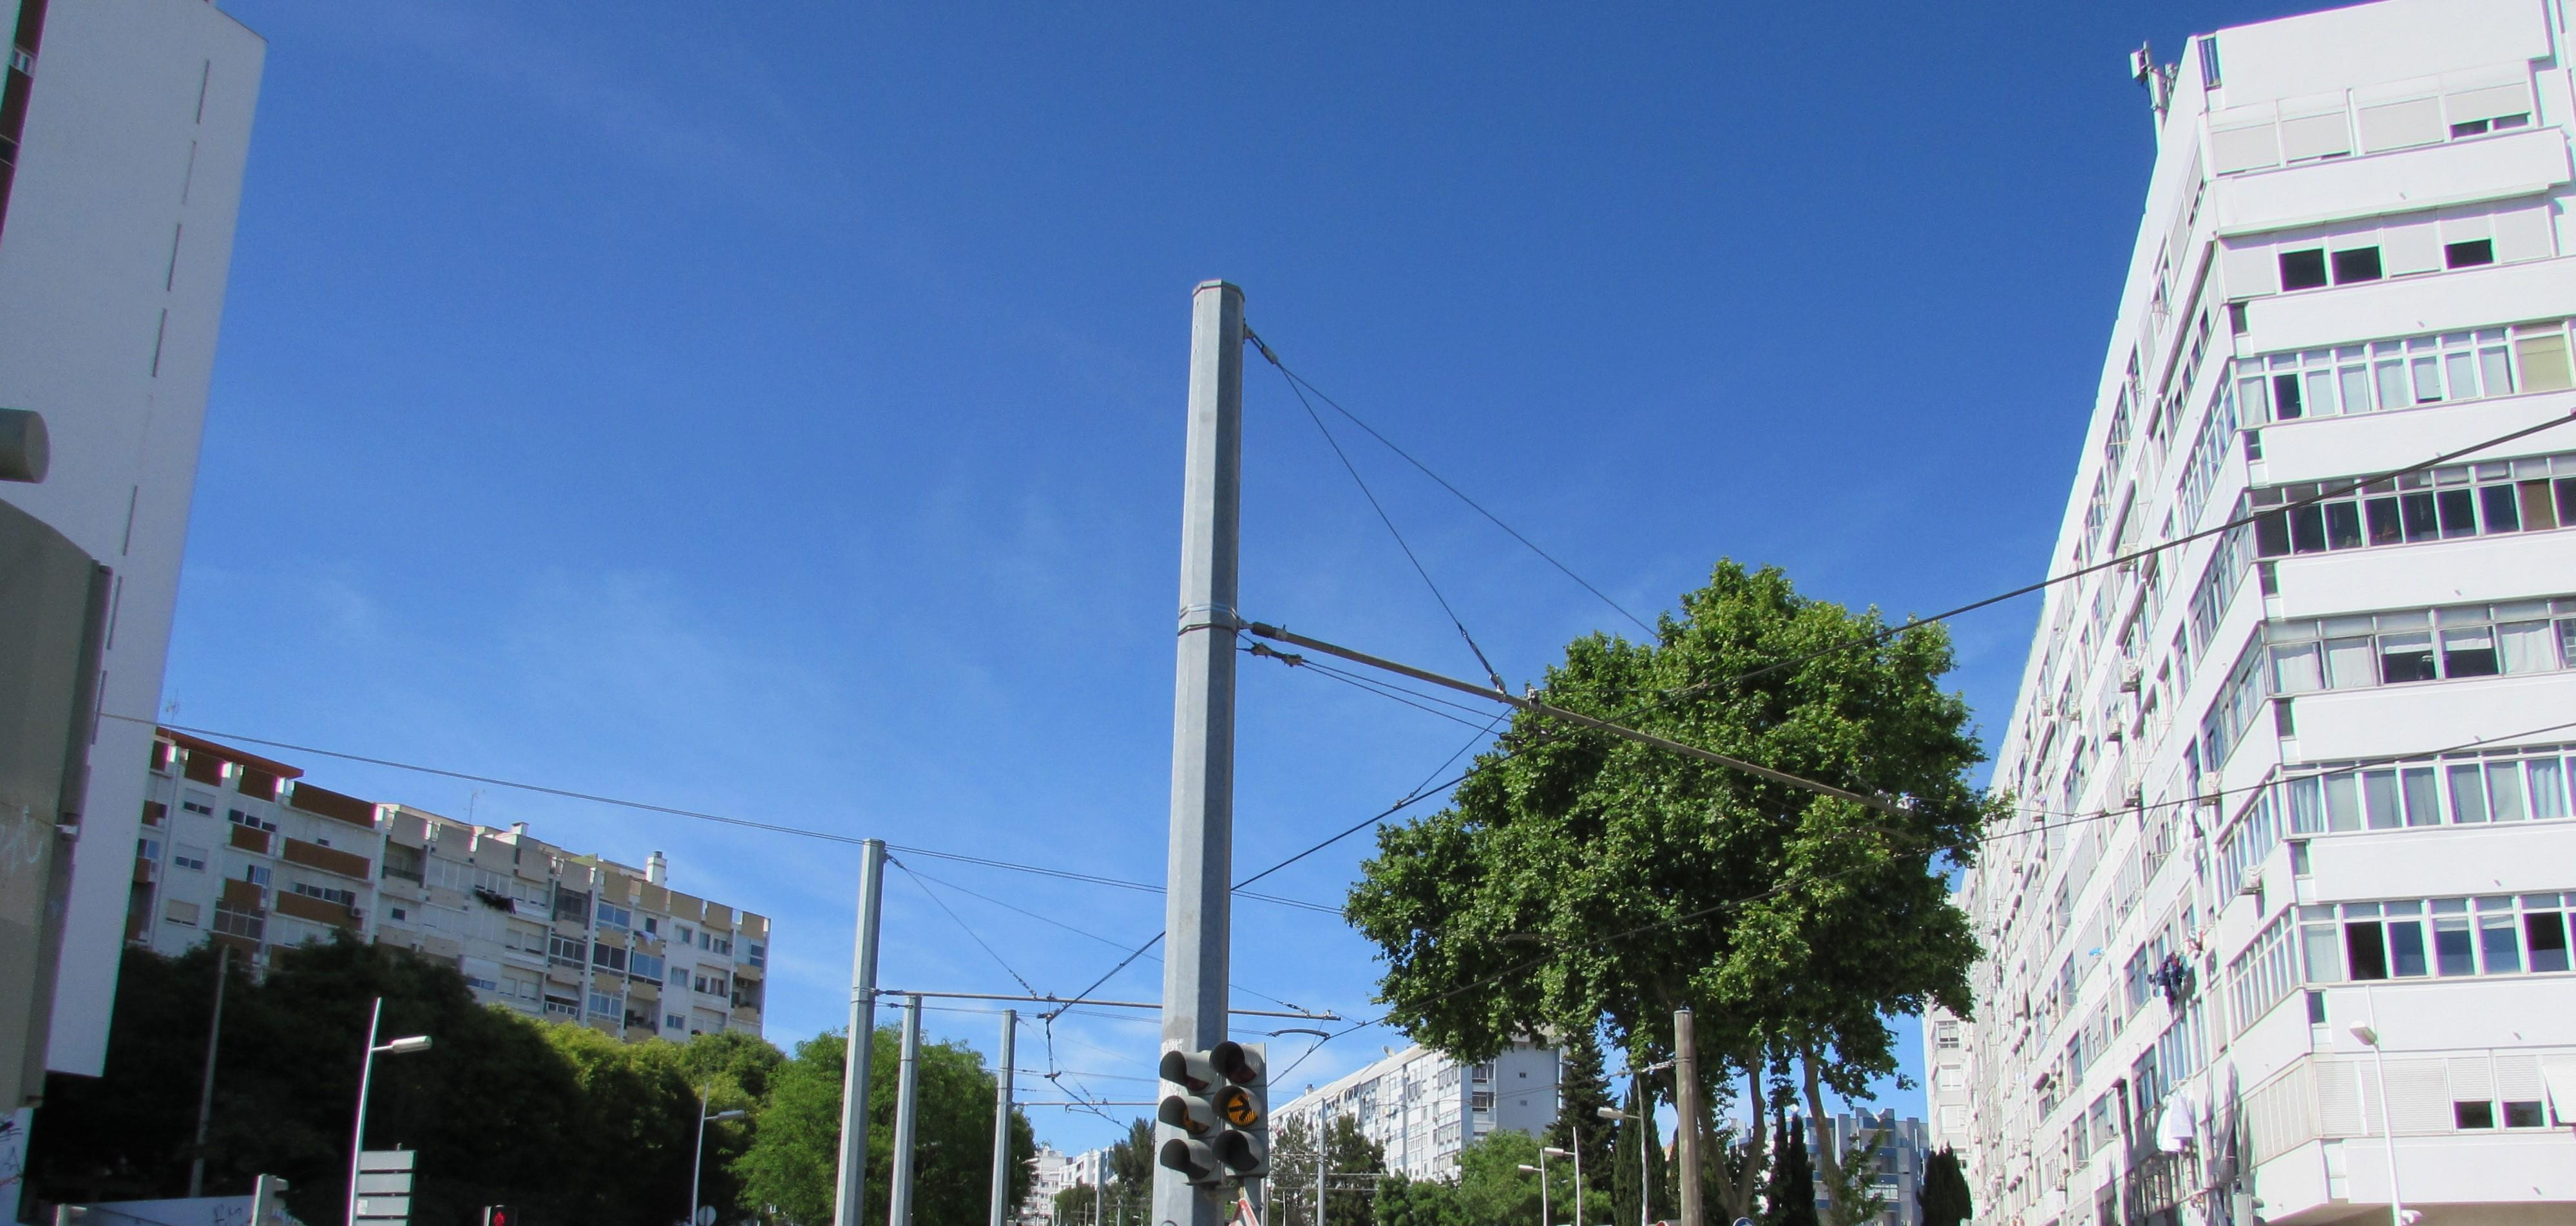yellow_light: (1158, 1050, 1224, 1185), (1211, 1041, 1270, 1177)
